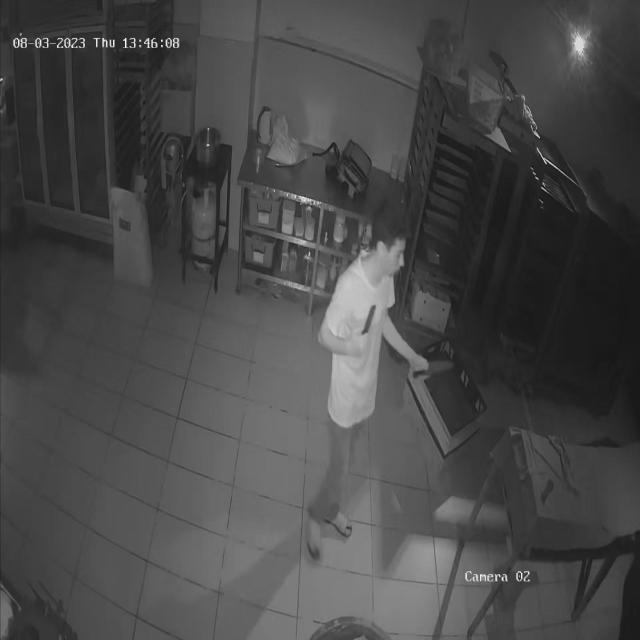Knife: (408, 348, 464, 388)
